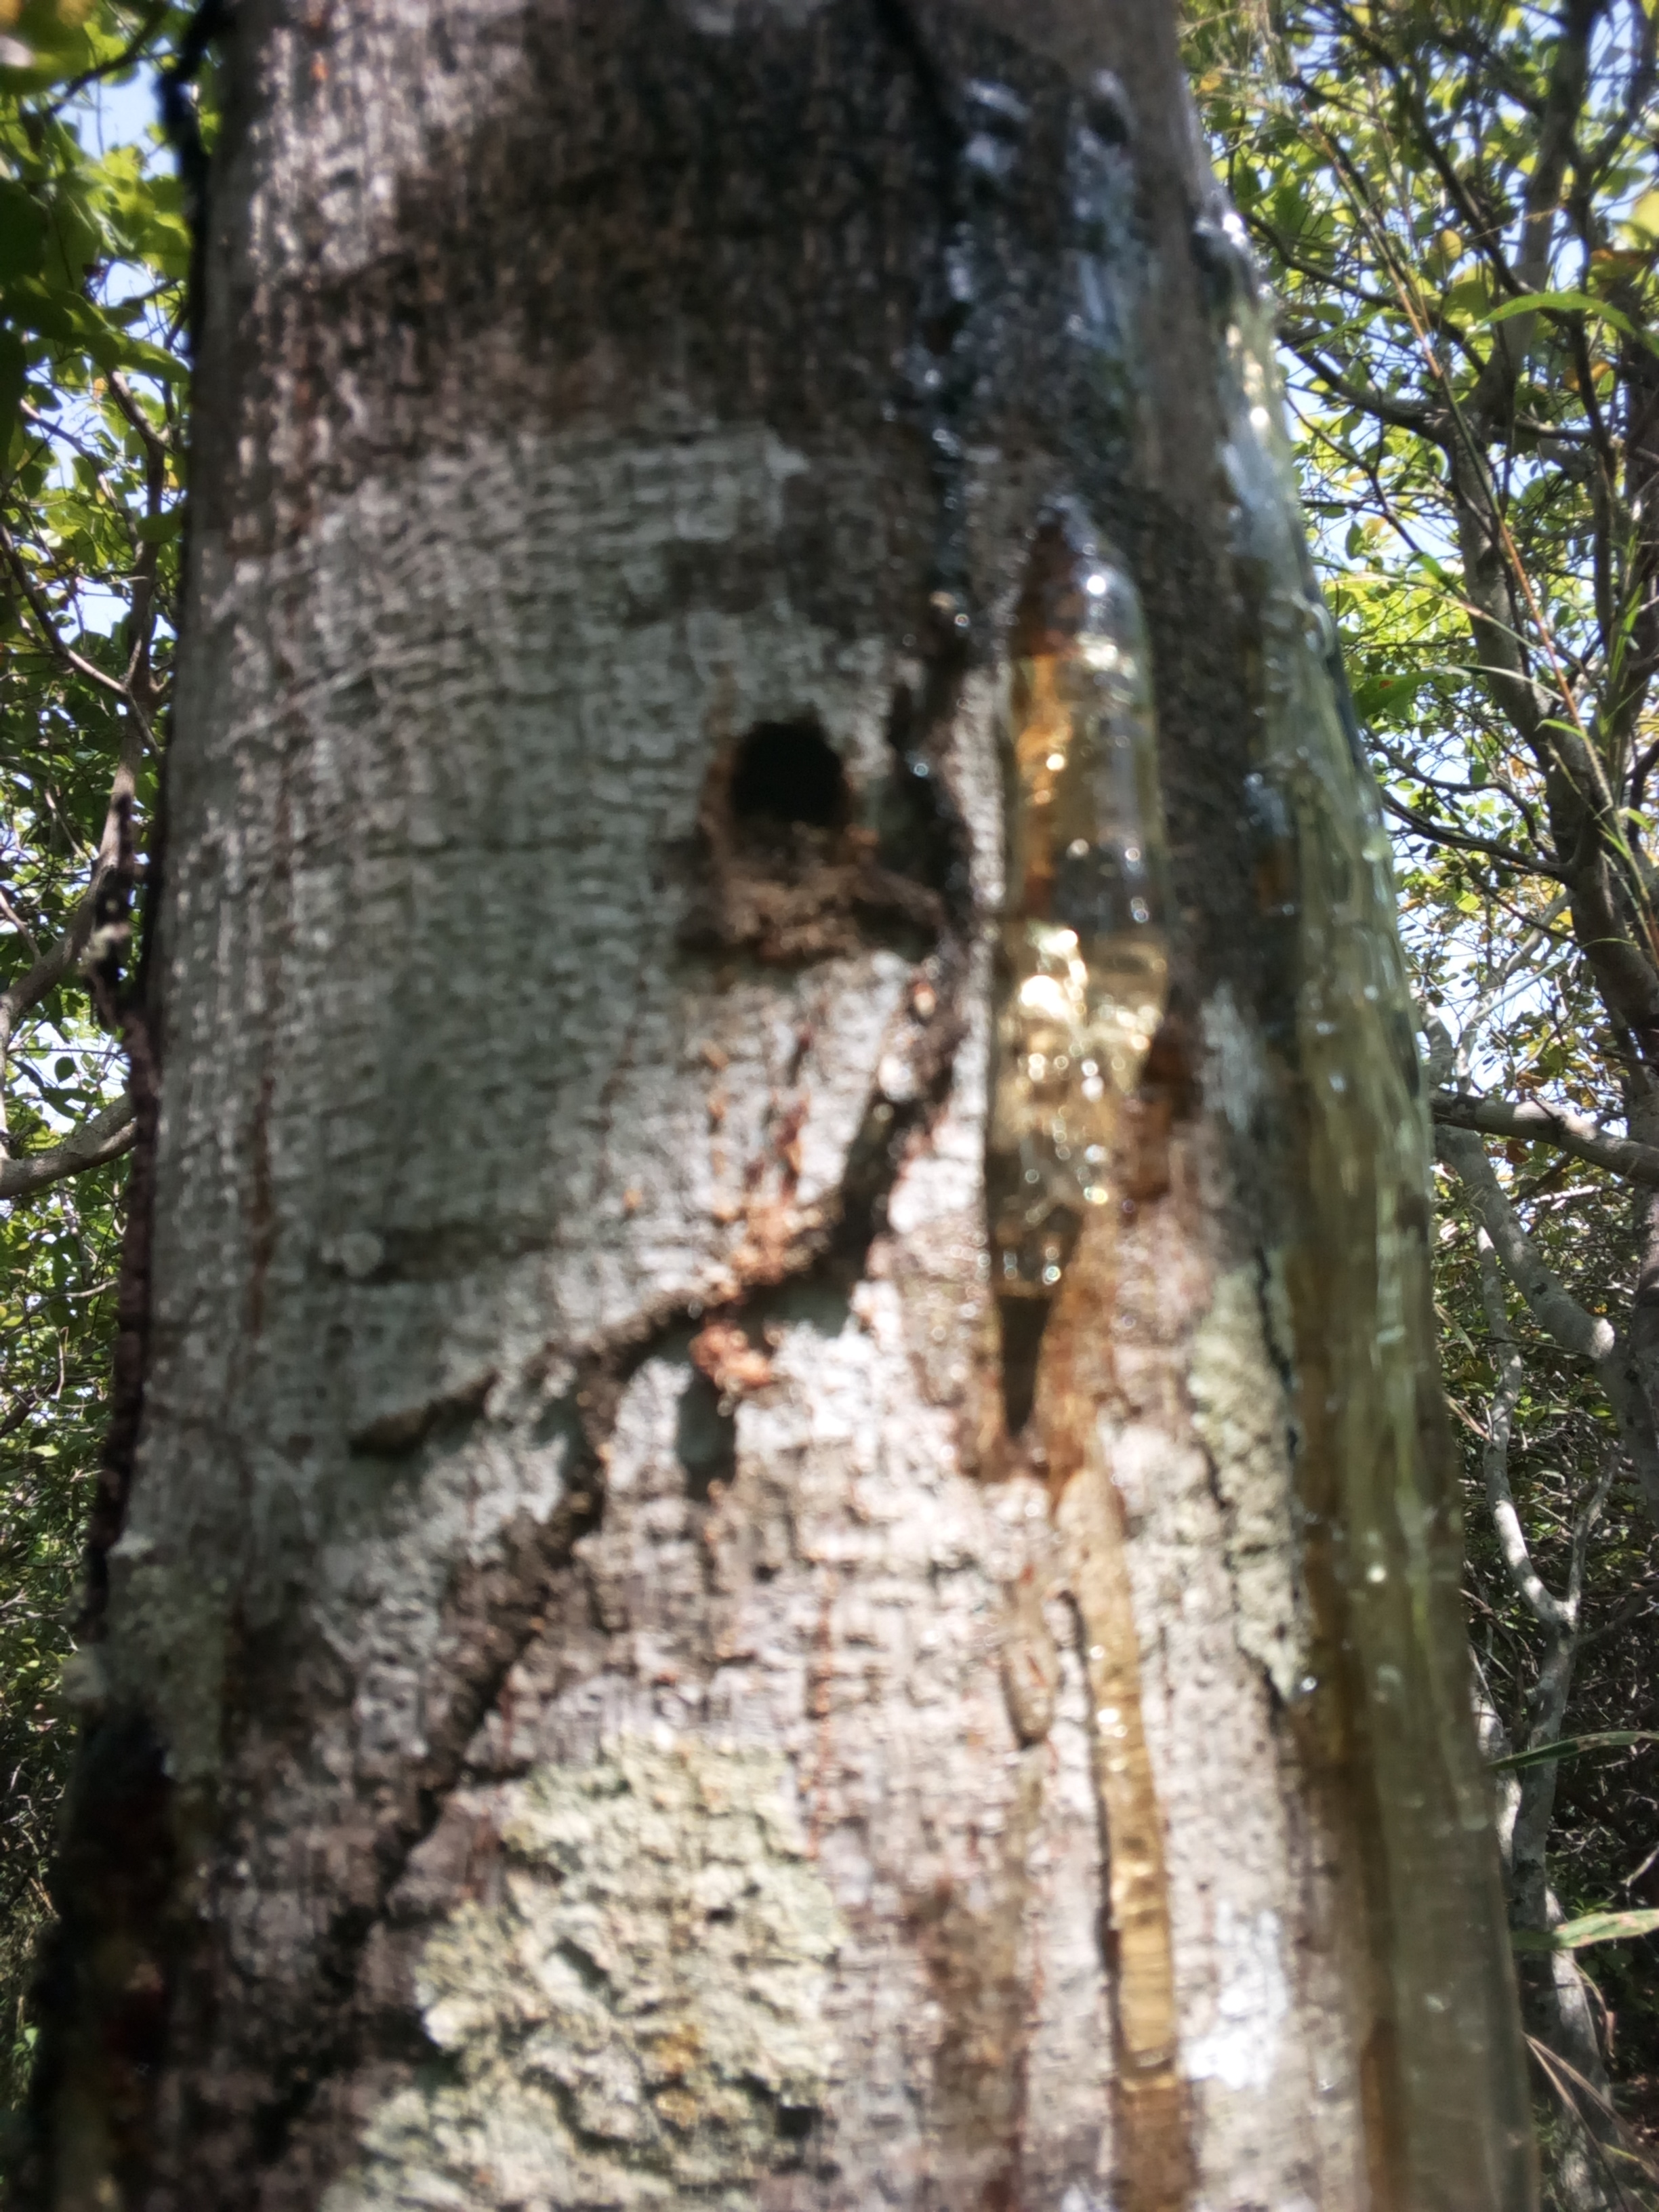Apate terebrans: (636, 629, 938, 977)
